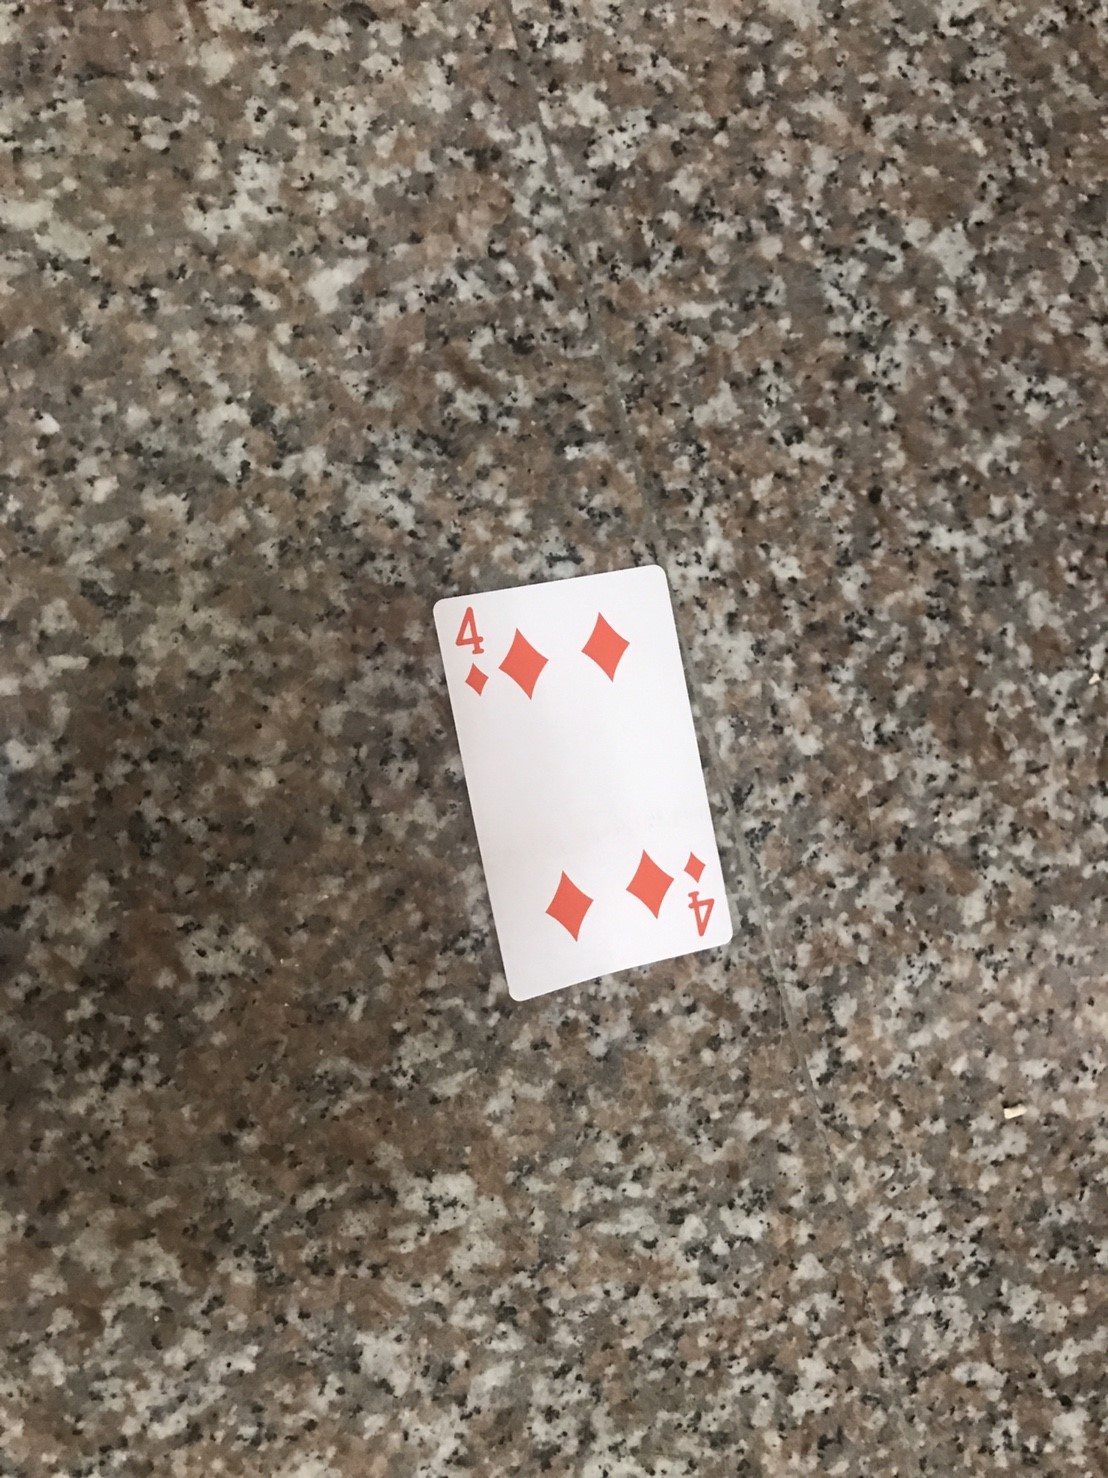diamonds: (496, 633, 564, 699), (544, 866, 596, 945), (582, 611, 635, 681), (624, 850, 670, 918), (459, 659, 491, 699), (686, 847, 713, 883)
